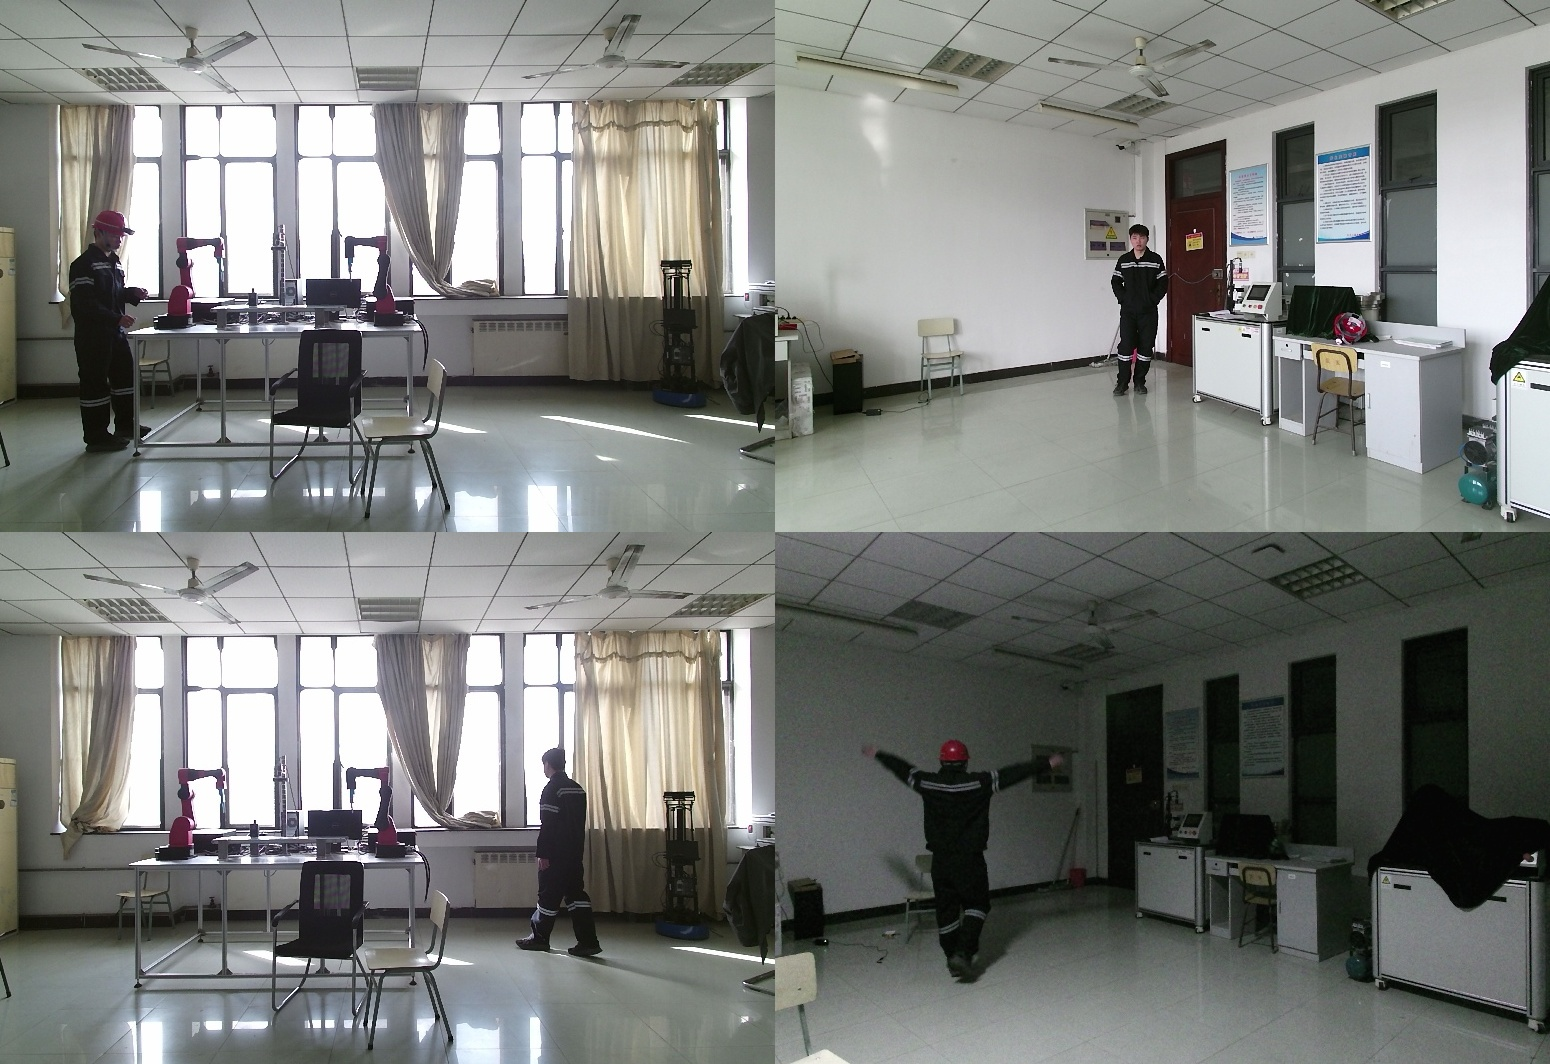person: (857, 741, 1069, 987), (59, 210, 157, 458), (520, 749, 608, 965), (1108, 224, 1172, 398)
